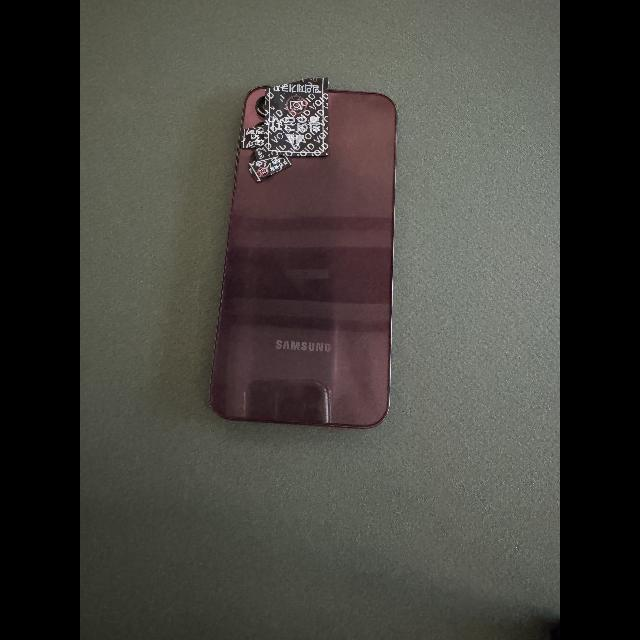lens: (258, 96, 266, 115), (251, 153, 256, 162), (257, 124, 264, 126)
phone: (206, 86, 394, 430)
sticker: (263, 76, 330, 157), (248, 155, 293, 183), (240, 125, 266, 149), (254, 147, 279, 164)
